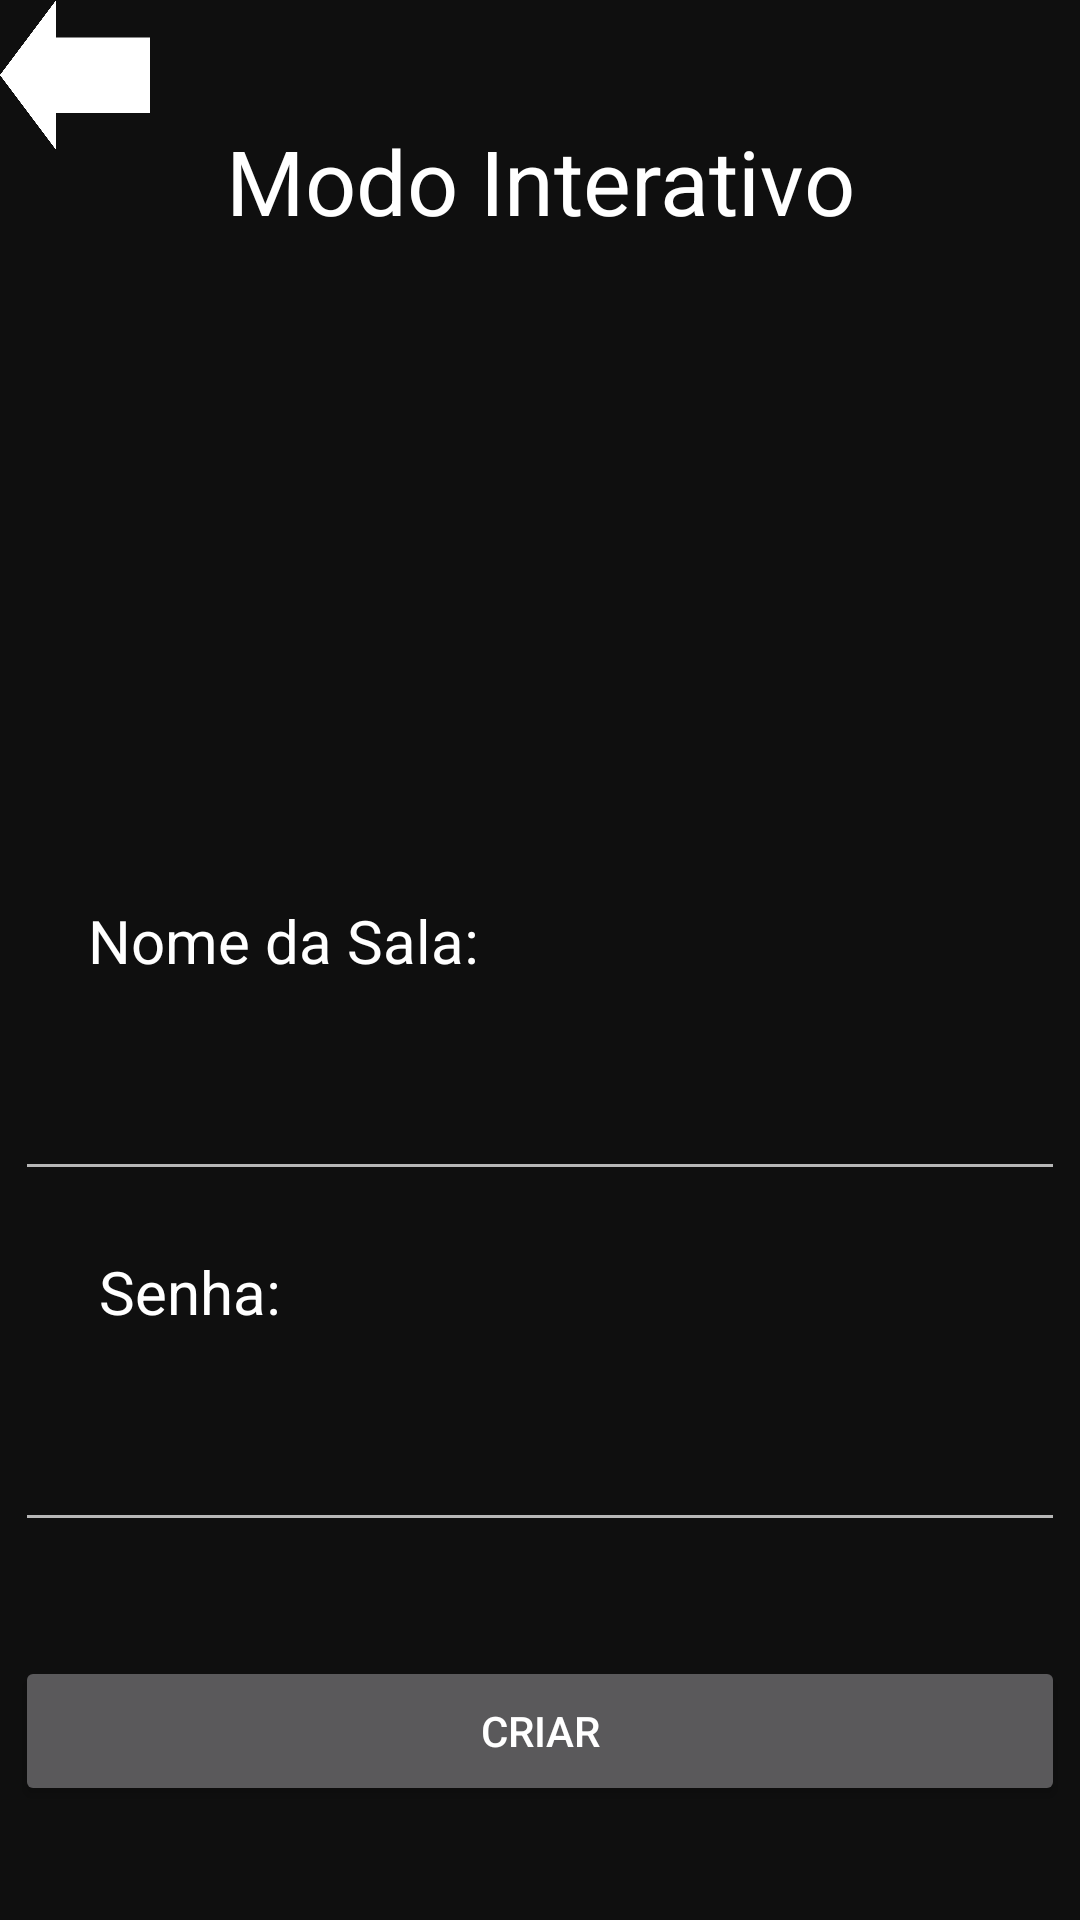

Where icons sit on this 1080*1920 app screen, as rect(x1, y1, x2, y2):
arrow back: rect(0, 1, 150, 149)
